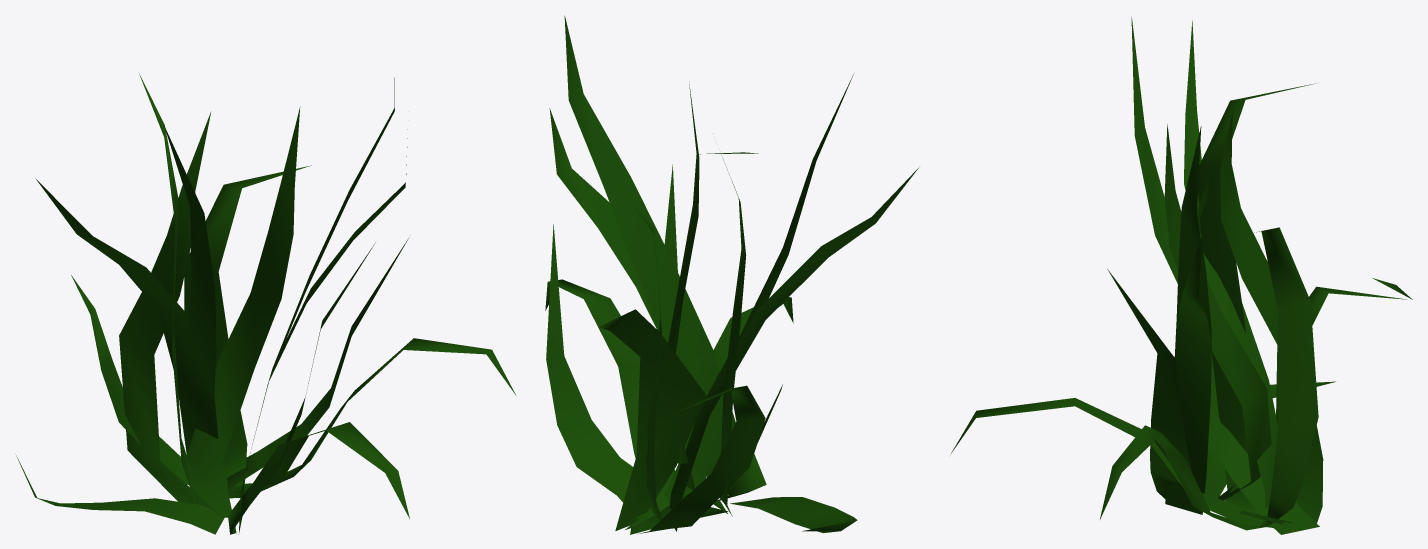
File: Grass3.fbx
3 views of the same model, side by side, from view 1: azimuth 30°, elevation 25°; view 2: azimuth 150°, elevation 25°; view 3: azimuth 270°, elevation 25° (orthographic). The views are drawn at different scales.
Visible parts, largest first — view 1: grass3; view 2: grass3; view 3: grass3.
Boxes of the visible parts, bbox=[...] form: grass3: bbox=[16, 73, 515, 534]; grass3: bbox=[545, 15, 918, 534]; grass3: bbox=[950, 17, 1412, 534].
Size of the model in its own units: 147 by 150 by 136.
